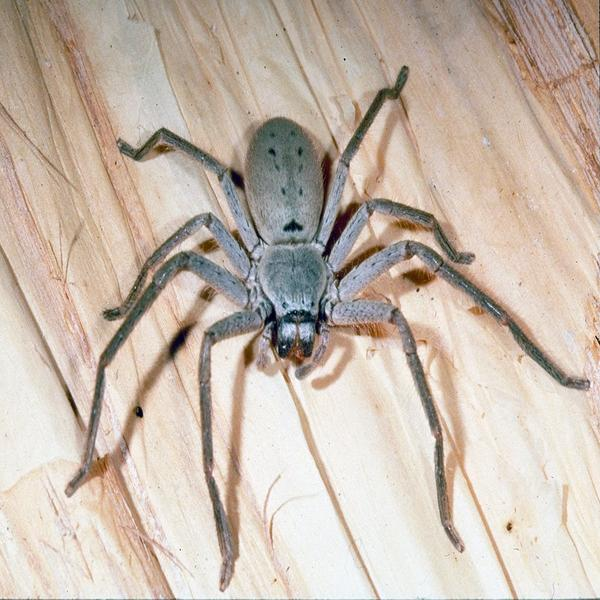Huntsman Spider: (93, 73, 576, 568)
